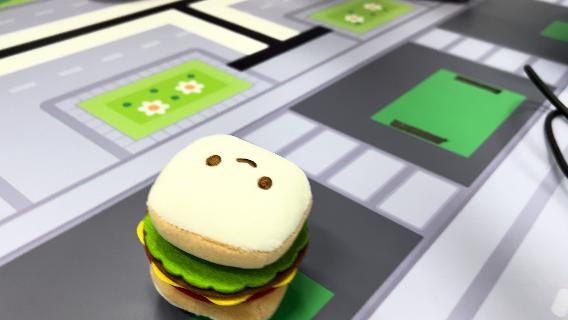sandwich: (135, 132, 315, 318)
